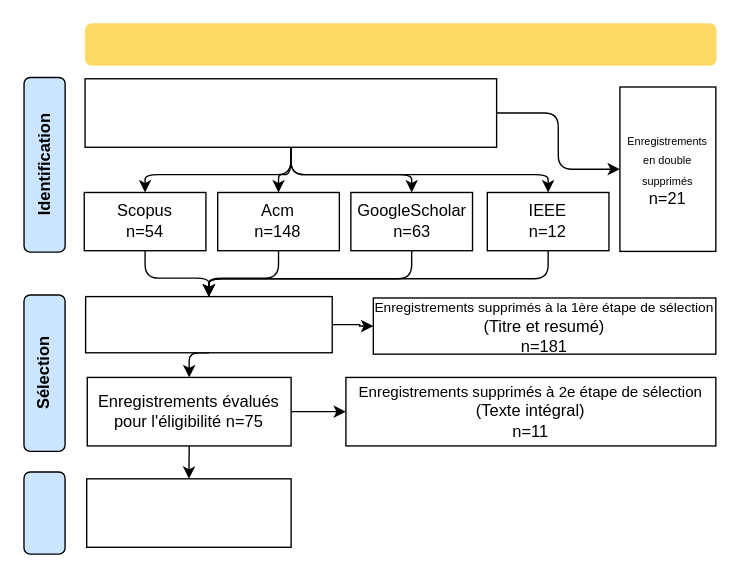
Image size: 740x578. Some labels were removed from this diagram. The shapes that lost their labels are listed below. From the top down, each one's centre as x and y in pixels, then its label:
At [400,44]: "Identification des études via la recherche en base de données".
At [290,112]: "Enregistrements identifiés à partir de : Bases de données(n=4) Registres(n=277)".
At [208,324]: "Enregistrements examinés n=256".
At [44,512]: "Inclus".
At [188,512]: "Études incluses dans la revue (n=64)".
